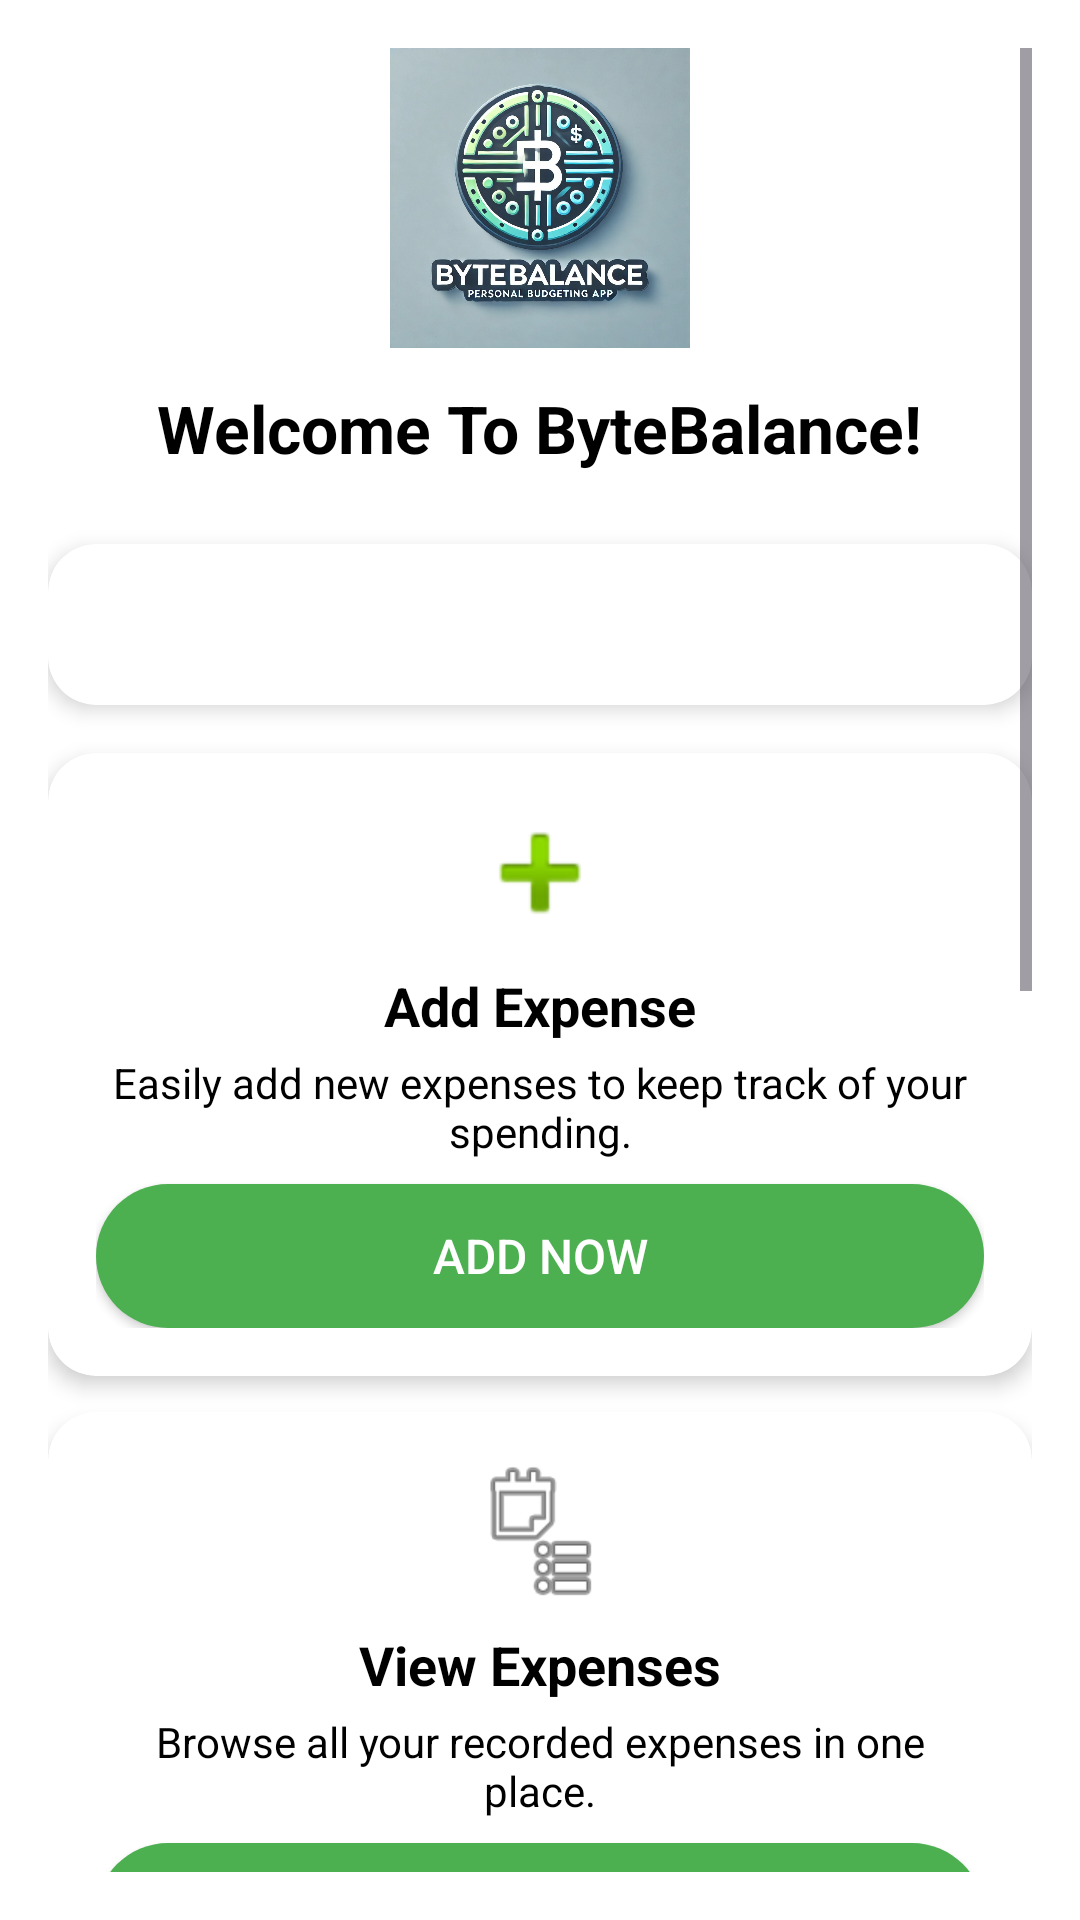

Screen size 1080 × 1920. Icon name, then its center in pixels as (x,y):
agenda: (540,1531)
